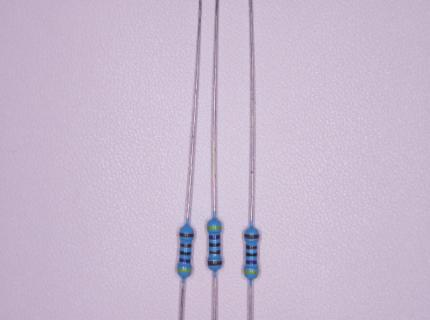Black band: (209, 242, 221, 247), (180, 251, 191, 256), (245, 252, 257, 256)
Brown band: (208, 261, 222, 266), (245, 245, 258, 250), (180, 243, 192, 248), (244, 234, 259, 238), (180, 233, 194, 237), (209, 250, 220, 254)
Violet band: (179, 258, 191, 264), (209, 235, 220, 240), (245, 260, 257, 264)
Yellow band: (244, 270, 258, 274), (177, 269, 191, 273), (207, 226, 221, 229)
